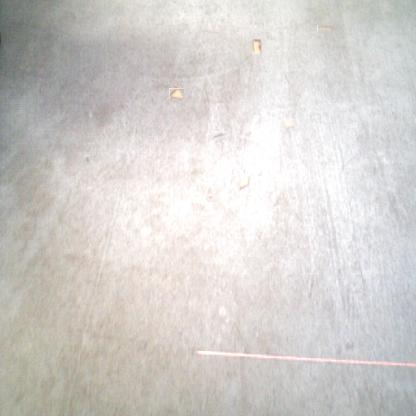dirty: (238, 174, 250, 191), (170, 87, 183, 100), (252, 39, 262, 55), (281, 119, 294, 130), (317, 25, 332, 33)
mark: (308, 273, 316, 300), (213, 130, 226, 142), (344, 341, 354, 351), (84, 155, 90, 164), (206, 195, 213, 201)
